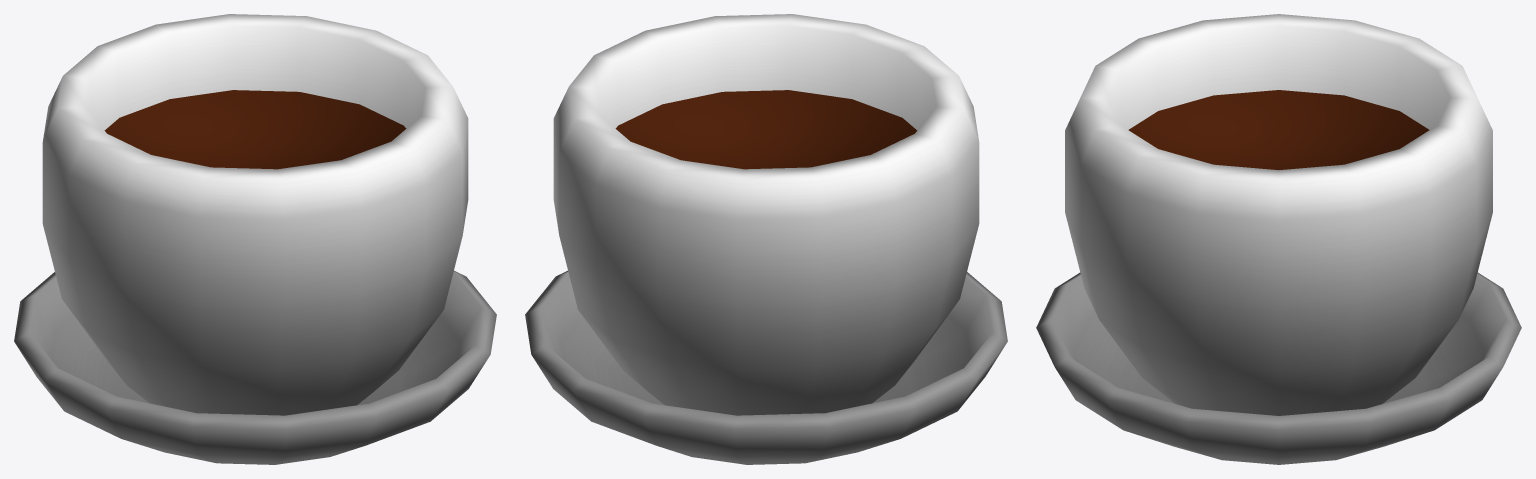
Rendered from SM_Pots_of_plant_9.fbx.
3 renders of one model, left to right at view 1: azimuth 30°, elevation 25°; view 2: azimuth 150°, elevation 25°; view 3: azimuth 270°, elevation 25°, orthographic.
Parts seen in each view (by area): view 1: SM_Pots_of_plant_9; view 2: SM_Pots_of_plant_9; view 3: SM_Pots_of_plant_9.
Part boxes in pixels (x1,y1,x2,y2): SM_Pots_of_plant_9: (14,14,496,464); SM_Pots_of_plant_9: (525,14,1007,464); SM_Pots_of_plant_9: (1036,14,1521,464).
Bounding box in the file's own units: 38.38 × 26.5 × 38.38.
Materials: 1 (1 with a texture image).
